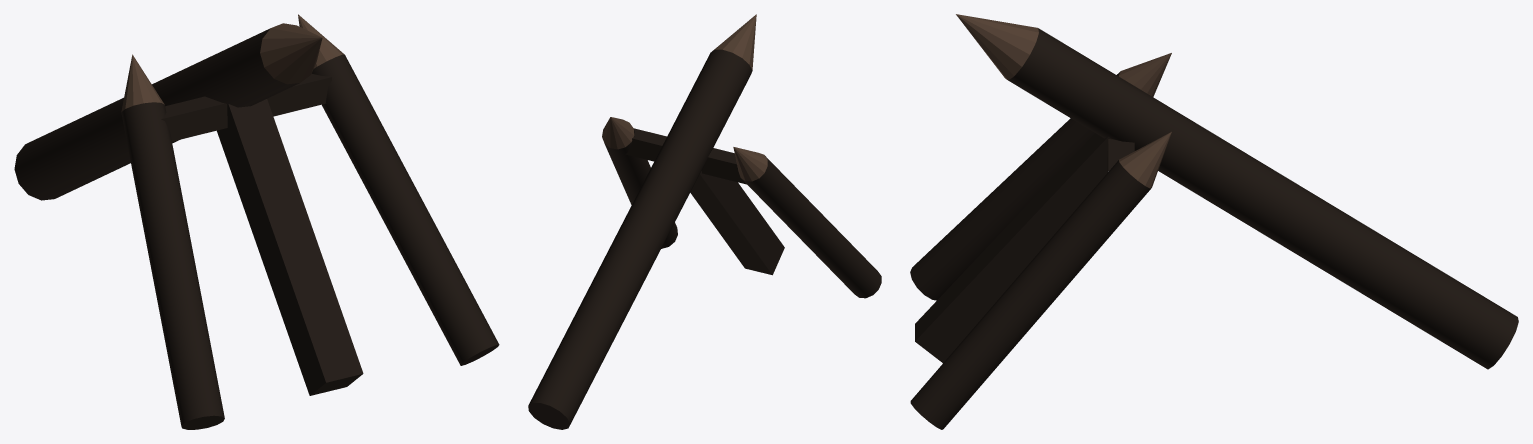
The model's file is bomb_stick.FBX.
The picture shows the model from 3 angles, left to right: view 1: azimuth 30°, elevation 25°; view 2: azimuth 150°, elevation 25°; view 3: azimuth 270°, elevation 25°; orthographic projection. The views are drawn at different scales.
Parts seen in each view (by area): view 1: bomb_stick; view 2: bomb_stick; view 3: bomb_stick.
Boxes of the visible parts, x1,y1,x2,y2 form: bomb_stick: [14, 14, 499, 429]; bomb_stick: [528, 14, 881, 429]; bomb_stick: [910, 14, 1518, 429].
Bounding box in the file's own units: 169 × 290 × 185.
